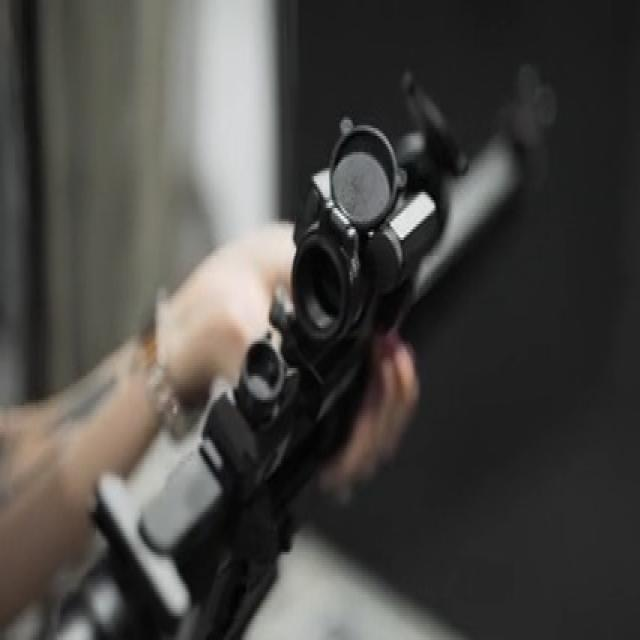Gun_Holder: (99, 69, 591, 640)
